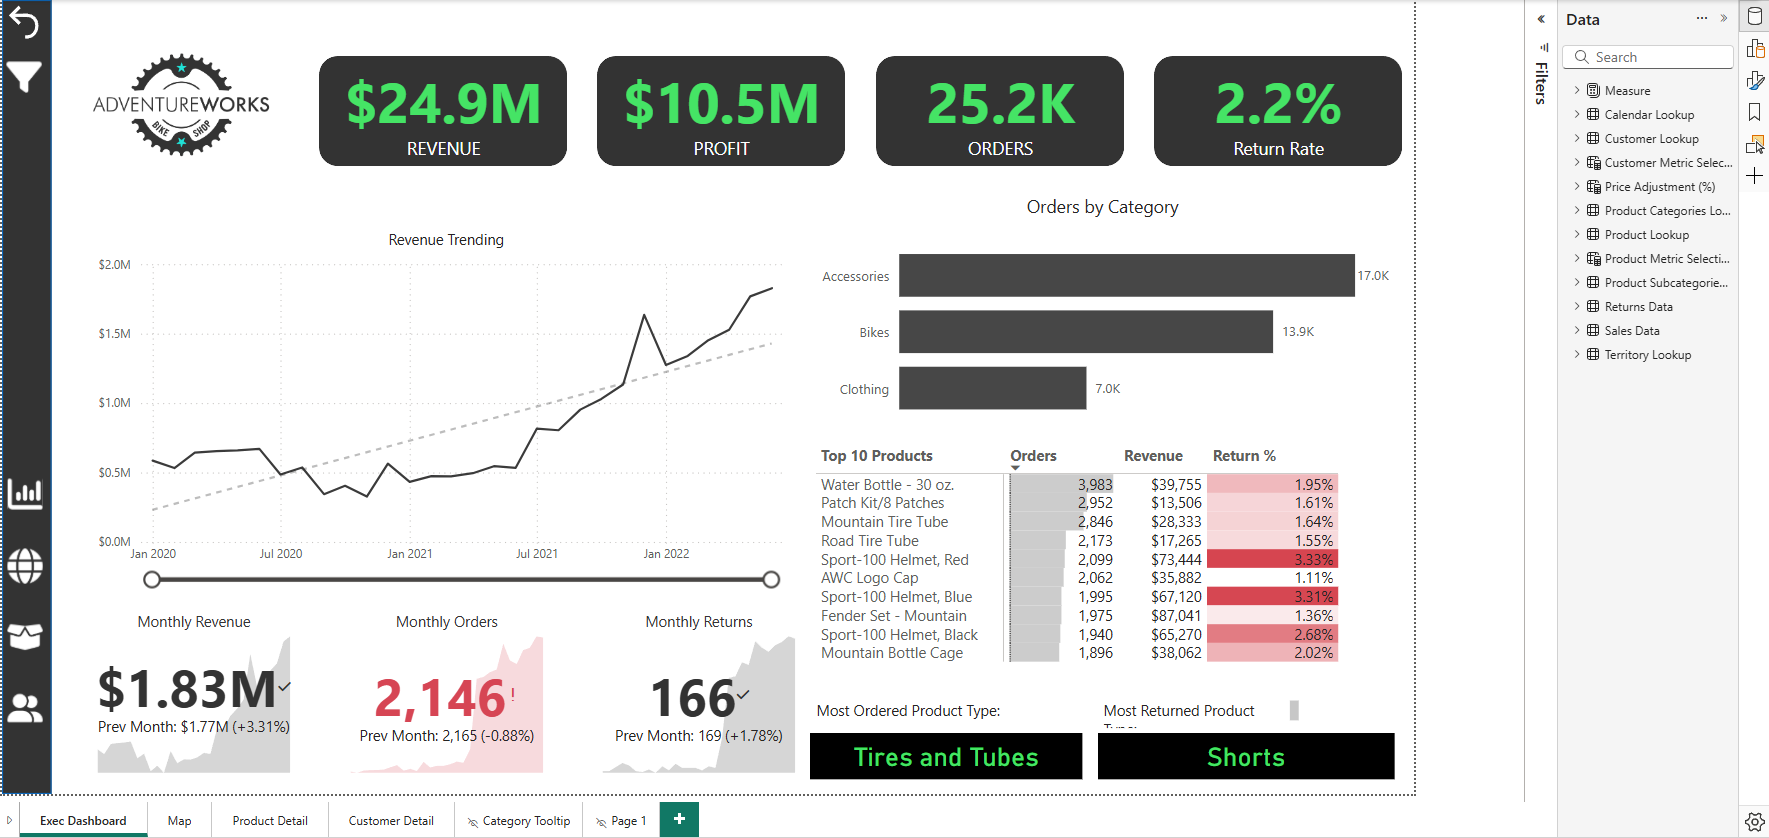

The dashboard page shown, as its layout file describes it:
{"tool":"powerbi","page":{"name":"Exec Dashboard","canvas":[1280,720],"ordinal":0},"visuals":[{"type":"card","fields":{"Values":["Measure.Total Revenue"]},"box":[298,25.3,206.1,150.5],"z":0,"group":"g2"},{"type":"image","title":"AW Logo","box":[60,28.3,206.1,133.3],"z":0},{"type":"group","id":"g1","title":"KPI Background","box":[287.9,50.6,982.8,100],"z":0,"group":"g3"},{"type":"shape","box":[287.9,50.6,225.3,100],"z":0,"group":"g1"},{"type":"shape","title":"Left Nav Background","box":[0,0,45,720.2],"z":1000},{"type":"group","id":"g2","title":"KPI value","box":[298,25.3,963.6,150.5],"z":1000,"group":"g3"},{"type":"card","fields":{"Values":["Measure.Total Profit"]},"box":[550.5,25.3,206.1,150.5],"z":1000,"group":"g2"},{"type":"shape","box":[540.4,50.6,225.3,100],"z":1000,"group":"g1"},{"type":"group","id":"g3","title":"KPIs","box":[287.9,25.3,982.8,150.5],"z":2000},{"type":"card","fields":{"Values":["Measure.Total Orders"]},"box":[803.1,25.3,206.1,150.5],"z":2000,"group":"g2"},{"type":"shape","box":[793,50.6,225.3,100],"z":2000,"group":"g1"},{"type":"card","fields":{"Values":["Measure.Return Rate"]},"box":[1055.6,25.3,206.1,150.5],"z":3000,"group":"g2"},{"type":"shape","box":[1045.5,50.6,225.3,100],"z":3000,"group":"g1"},{"type":"lineChart","title":"Revenue Trending","fields":{"Y":["Measure.Total Revenue"],"Category":["Calendar Lookup.Year","Calendar Lookup.Start of Quarter","Calendar Lookup.Start of Month"]},"box":[82,208.7,642.6,327.9],"z":3000},{"type":"kpi","title":"Monthly Revenue","fields":{"Indicator":["Measure.Total Revenue"],"TrendLine":["Calendar Lookup.Start of Month"],"Goal":["Measure.Previous Month Revenue"]},"box":[82,555.2,184.7,150.8],"z":4000},{"type":"kpi","title":"Monthly Returns","fields":{"TrendLine":["Calendar Lookup.Start of Month"],"Indicator":["Measure.Total Returns"],"Goal":["Measure.Previous Month Returns"]},"box":[539.9,555.2,184.7,150.8],"z":5000},{"type":"kpi","title":"Monthly Orders","fields":{"TrendLine":["Calendar Lookup.Start of Month"],"Indicator":["Measure.Total Orders"],"Goal":["Measure.Previous Month Orders"]},"box":[310.9,555.2,184.7,150.8],"z":6000},{"type":"clusteredBarChart","title":"Orders by Category","fields":{"Category":["Product Categories Lookup.CategoryName"],"Y":["Measure.Total Orders"]},"box":[733.3,176,529,223],"z":7000},{"type":"pivotTable","fields":{"Rows":["Product Lookup.ProductName"],"Values":["Measure.Total Orders","Measure.Total Revenue","Measure.Return Rate"]},"box":[732.9,398.6,501.9,220.2],"z":8000},{"type":"card","fields":{"Values":["Min(Product Subcategories Lookup.SubcategoryName)"]},"box":[732.2,664.5,247,41.5],"z":9000},{"type":"textbox","box":[733.3,630.6,186.9,35],"z":10000},{"type":"card","fields":{"Values":["Min(Product Subcategories Lookup.SubcategoryName)"]},"box":[993.5,664.5,268.9,41.5],"z":11000},{"type":"textbox","box":[993.5,630.6,186.9,35],"z":12000},{"type":"actionButton","box":[0,0,44.8,40.4],"z":13000},{"type":"actionButton","box":[0.5,428.4,44.8,40.4],"z":14000},{"type":"actionButton","box":[0.5,492.9,44.8,40.4],"z":15000},{"type":"actionButton","box":[0.5,557.4,44.8,40.4],"z":16000},{"type":"actionButton","box":[0.5,621.9,44.8,40.4],"z":17000},{"type":"actionButton","box":[0,50.3,45.9,40.4],"z":18000}]}

Visuals, with their boxes on the page's 1280x720 design canvas (x1, y1, x2, y2). These are canvas units, not pixel positions in the 1769x838 screenshot, which may show the page scaled, cropped or inside an application window:
card - Measure.Total Revenue: rect(298, 25, 504, 176)
"AW Logo" image: rect(60, 28, 266, 162)
"KPI Background" group: rect(288, 51, 1271, 151)
shape: rect(288, 51, 513, 151)
"Left Nav Background" shape: rect(0, 0, 45, 720)
"KPI value" group: rect(298, 25, 1262, 176)
card - Measure.Total Profit: rect(550, 25, 757, 176)
shape: rect(540, 51, 766, 151)
"KPIs" group: rect(288, 25, 1271, 176)
card - Measure.Total Orders: rect(803, 25, 1009, 176)
shape: rect(793, 51, 1018, 151)
card - Measure.Return Rate: rect(1056, 25, 1262, 176)
shape: rect(1046, 51, 1271, 151)
"Revenue Trending" lineChart: rect(82, 209, 725, 537)
"Monthly Revenue" kpi: rect(82, 555, 267, 706)
"Monthly Returns" kpi: rect(540, 555, 725, 706)
"Monthly Orders" kpi: rect(311, 555, 496, 706)
"Orders by Category" clusteredBarChart: rect(733, 176, 1262, 399)
pivotTable - Product Lookup.ProductName x Measure.Total Orders: rect(733, 399, 1235, 619)
card - Min(Product Subcategories Lookup.SubcategoryName): rect(732, 664, 979, 706)
textbox: rect(733, 631, 920, 666)
card - Min(Product Subcategories Lookup.SubcategoryName): rect(994, 664, 1262, 706)
textbox: rect(994, 631, 1180, 666)
actionButton: rect(0, 0, 45, 40)
actionButton: rect(0, 428, 45, 469)
actionButton: rect(0, 493, 45, 533)
actionButton: rect(0, 557, 45, 598)
actionButton: rect(0, 622, 45, 662)
actionButton: rect(0, 50, 46, 91)
